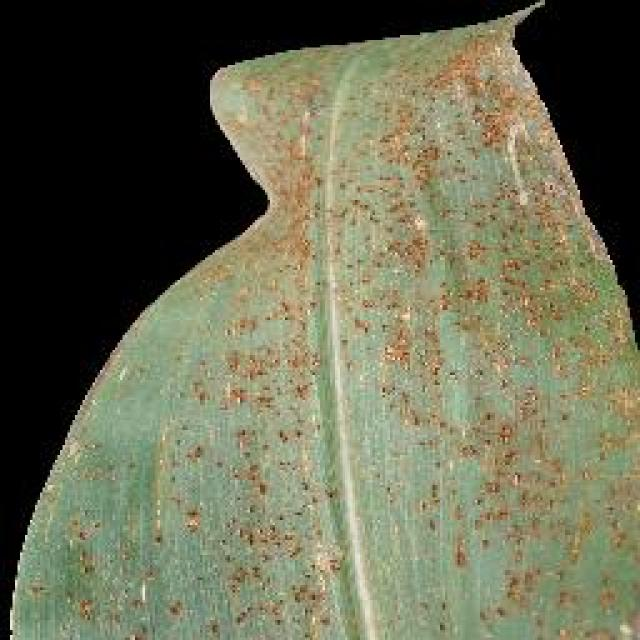Corn Common Rust: (180, 55, 637, 590)
